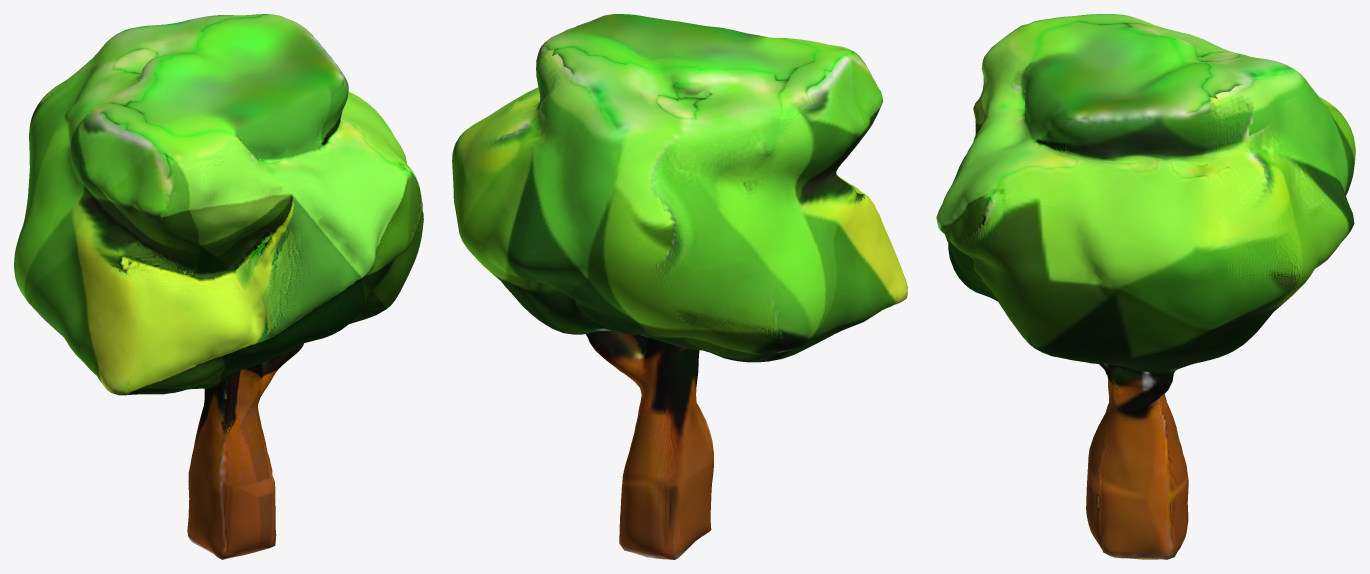
3 renders of one model, left to right at view 1: azimuth 30°, elevation 25°; view 2: azimuth 150°, elevation 25°; view 3: azimuth 270°, elevation 25°, orthographic. The views are drawn at different scales.
Parts seen in each view (by area): view 1: model.obj; view 2: model.obj; view 3: model.obj.
Part boxes in pixels (x1=…): model.obj: x1=14, y1=14, x2=423, y2=559; model.obj: x1=452, y1=14, x2=907, y2=559; model.obj: x1=936, y1=14, x2=1355, y2=559.
Bounding box in the file's own units: 0.8396 × 1.13 × 0.8638.
1 material, 1 textured.
